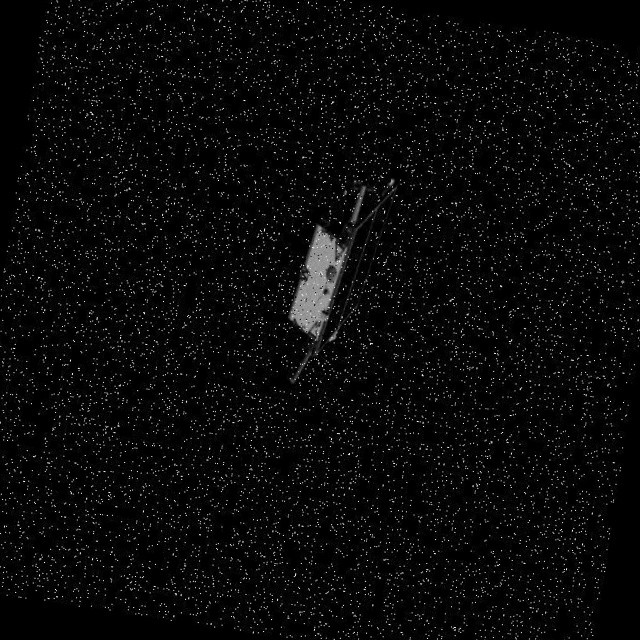satellite: (274, 160, 377, 392)
